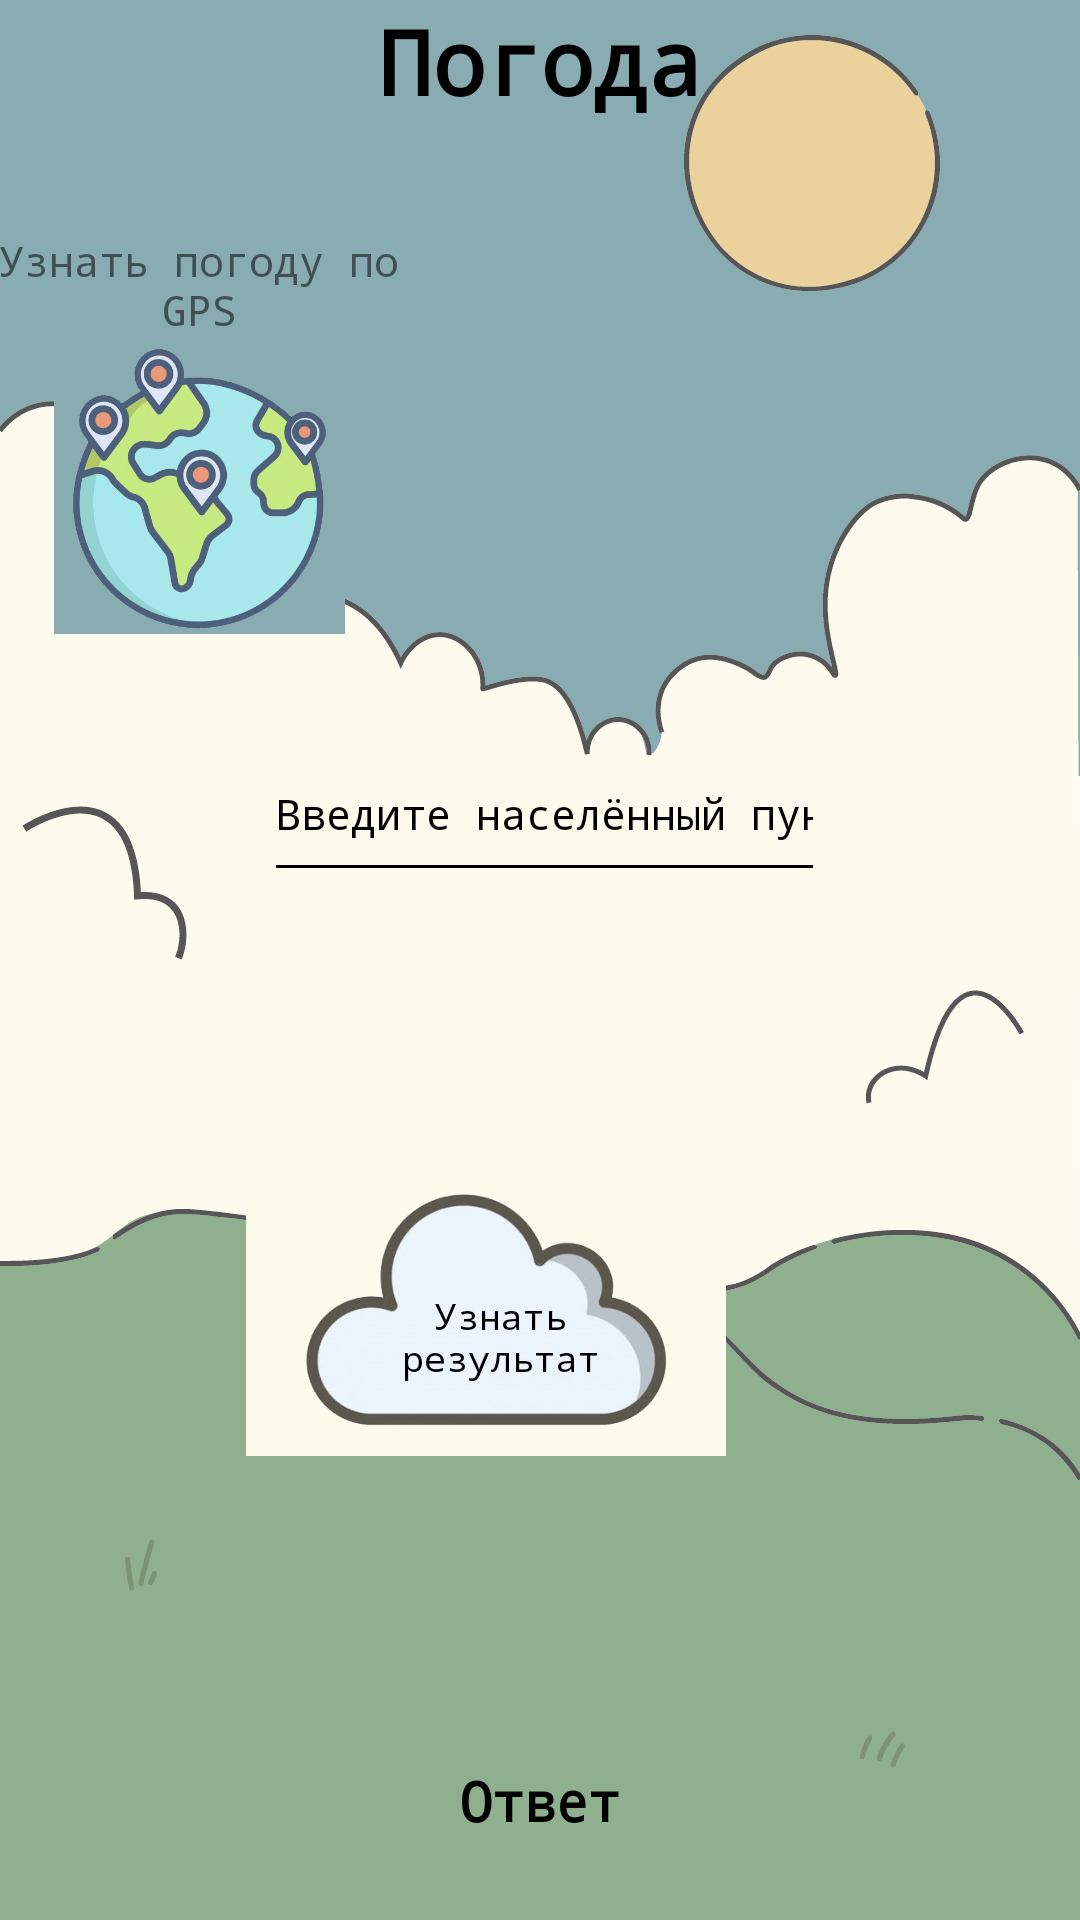

Icon bounding boxes for this 1080 × 1920 phone screenshot, format region(x1, y1, x2, y2):
geotochka: region(73, 349, 326, 628)
